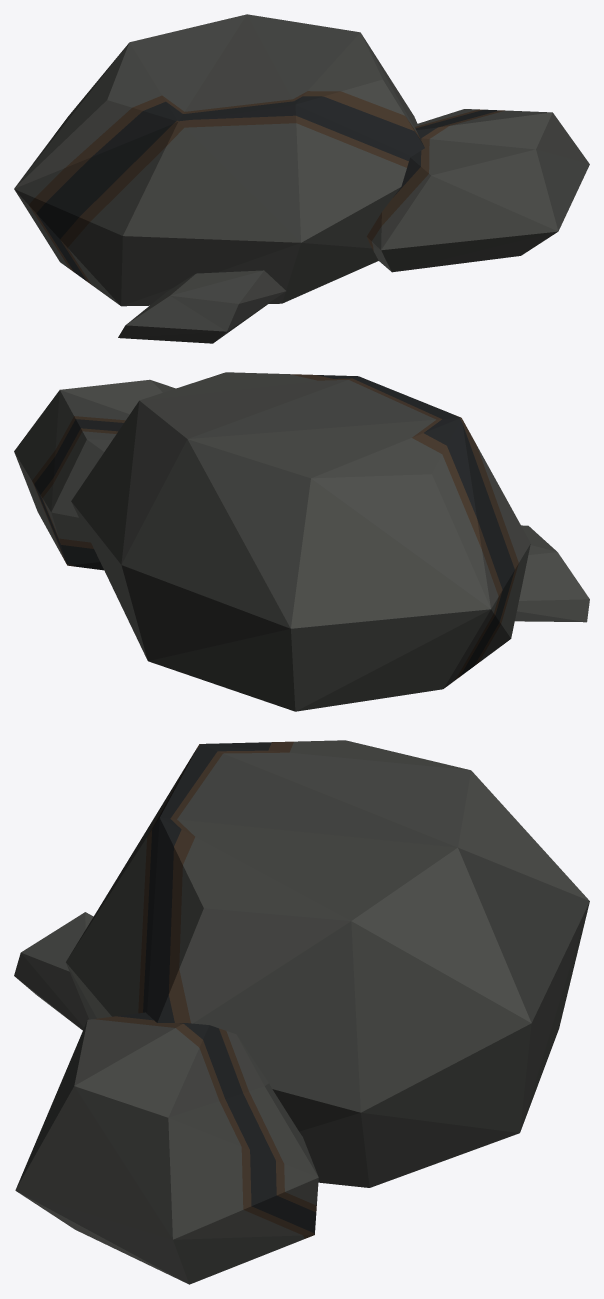
File: ore_iron_v03_lod0.glb
The picture shows the model from 3 angles, top to bottom: view 1: azimuth 30°, elevation 25°; view 2: azimuth 150°, elevation 25°; view 3: azimuth 270°, elevation 25°; orthographic projection. The views are drawn at different scales.
Parts seen in each view (by area): view 1: ore_iron_v03_lod0; view 2: ore_iron_v03_lod0; view 3: ore_iron_v03_lod0.
Part boxes in pixels (x1,y1,x2,y2): ore_iron_v03_lod0: (14,14,589,343); ore_iron_v03_lod0: (14,372,589,711); ore_iron_v03_lod0: (14,740,589,1284).
Size of the model in its own units: 2.73 by 0.9625 by 1.83.
